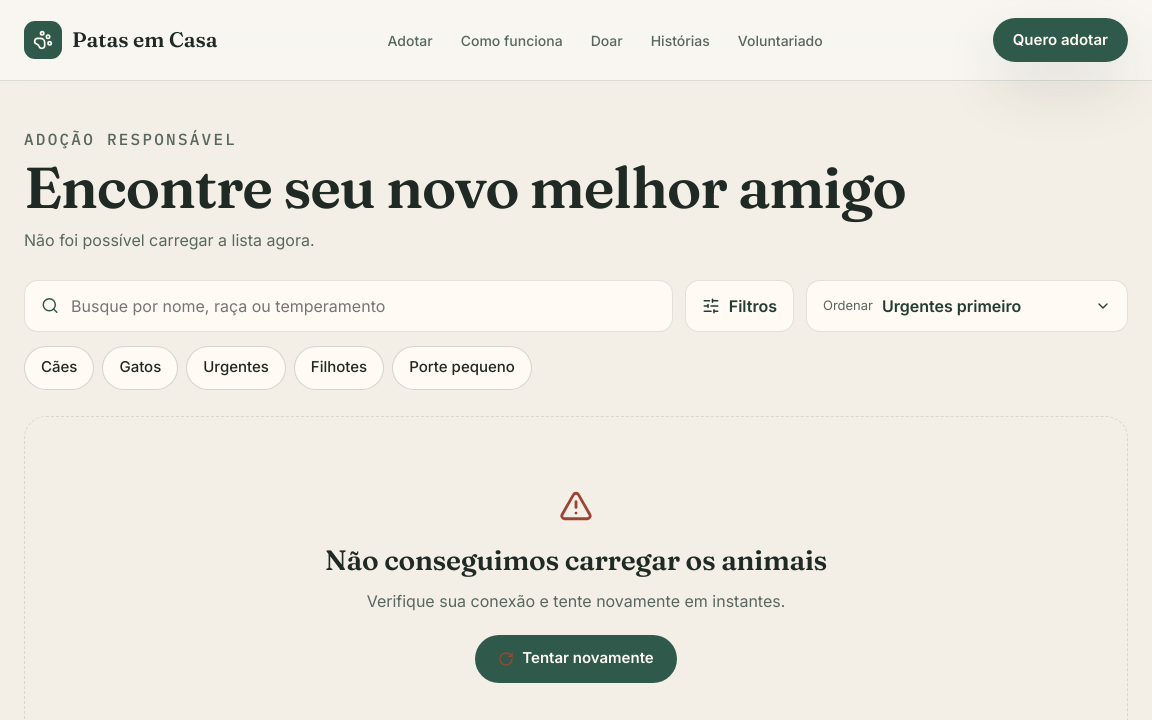
it: shows an error with retry instead of an empty catalog when the API fails
This screenshot has width=1152, height=720.
Expected: the message shows "Não conseguimos carregar os animais", top-left (325, 543), bottom-right (827, 577)
Clica em "Tentar novamente"...
Click the button "Tentar novamente": [576, 659] box top-left (475, 635), bottom-right (677, 683)
(page scrolled)
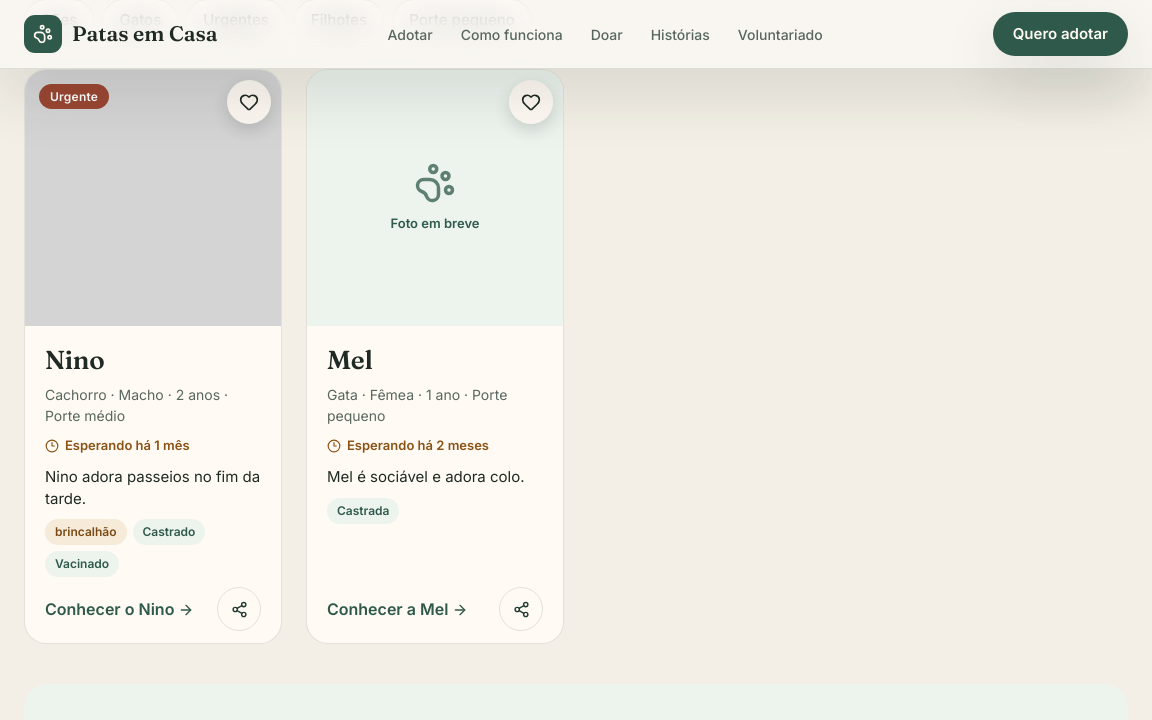
Now the heading "Nino" is shown, box top-left (45, 344), bottom-right (104, 376)
